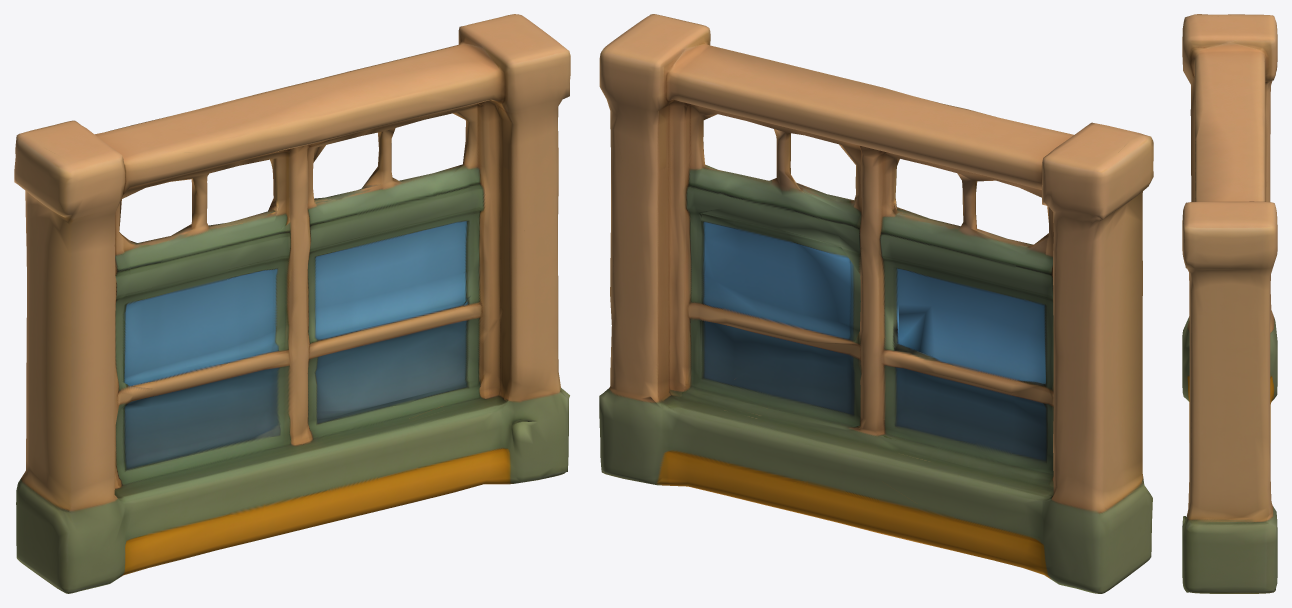
The model's file is 15Wall.fbx.
The picture shows the model from 3 angles, left to right: view 1: azimuth 30°, elevation 25°; view 2: azimuth 150°, elevation 25°; view 3: azimuth 270°, elevation 25°; orthographic projection. The views are drawn at different scales.
Parts seen in each view (by area): view 1: Mesh_0; view 2: Mesh_0; view 3: Mesh_0.
Boxes of the visible parts, x1=… form: Mesh_0: x1=14, y1=14, x2=570, y2=593; Mesh_0: x1=599, y1=14, x2=1153, y2=593; Mesh_0: x1=1182, y1=14, x2=1277, y2=593.
Size of the model in its own units: 190 by 152 by 35.53.
